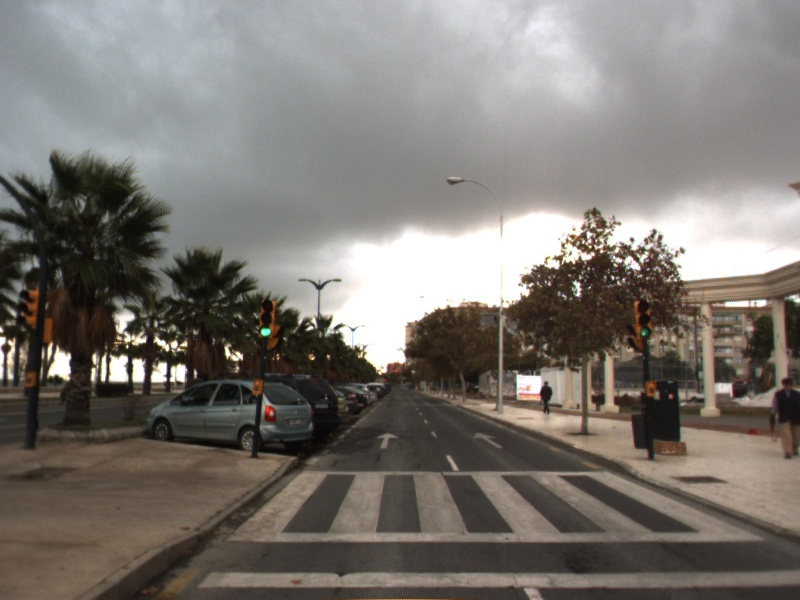STRAIGHT: (471, 430, 506, 450), (374, 430, 401, 450)
